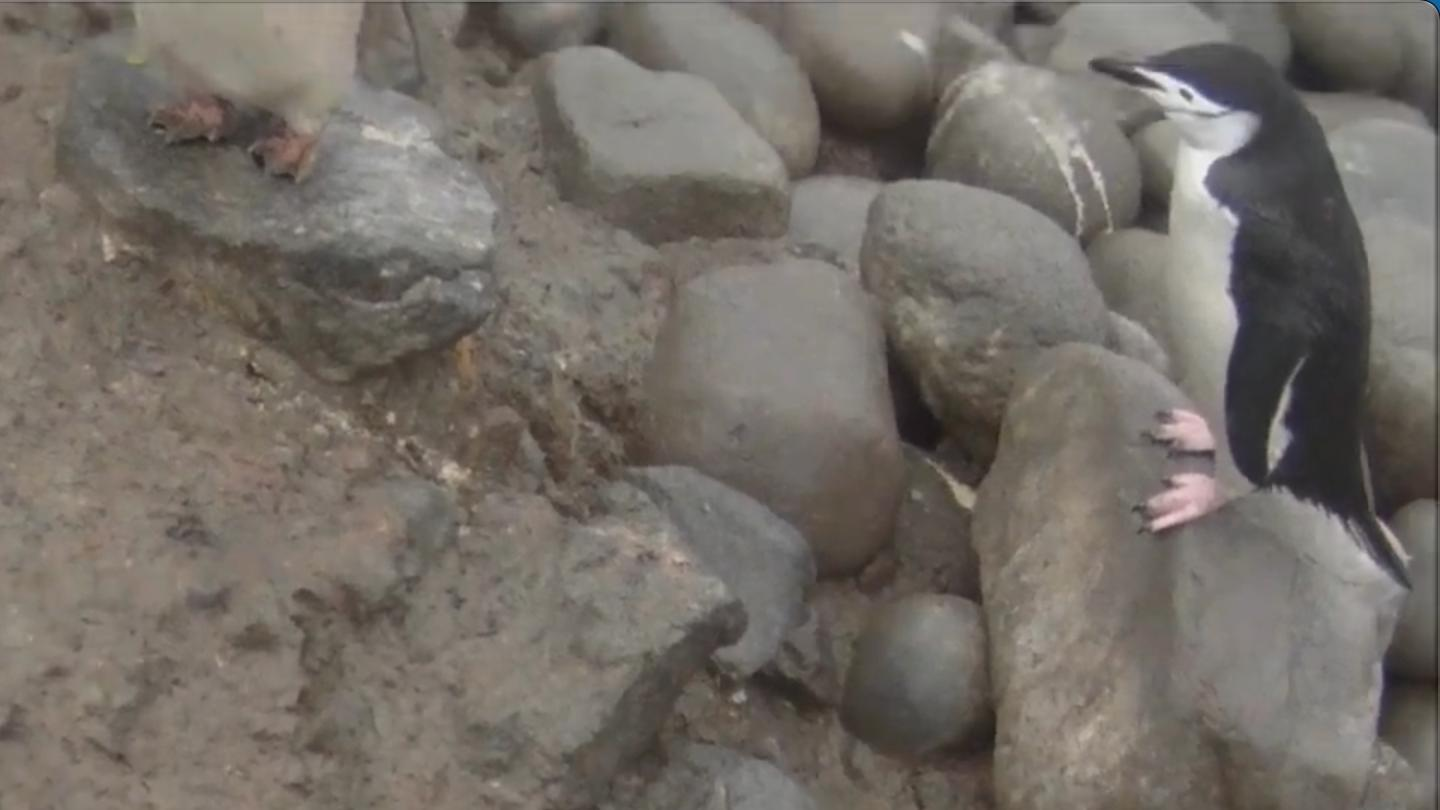Chinstrap Penguin: (1047, 33, 1440, 557), (0, 369, 214, 810)
